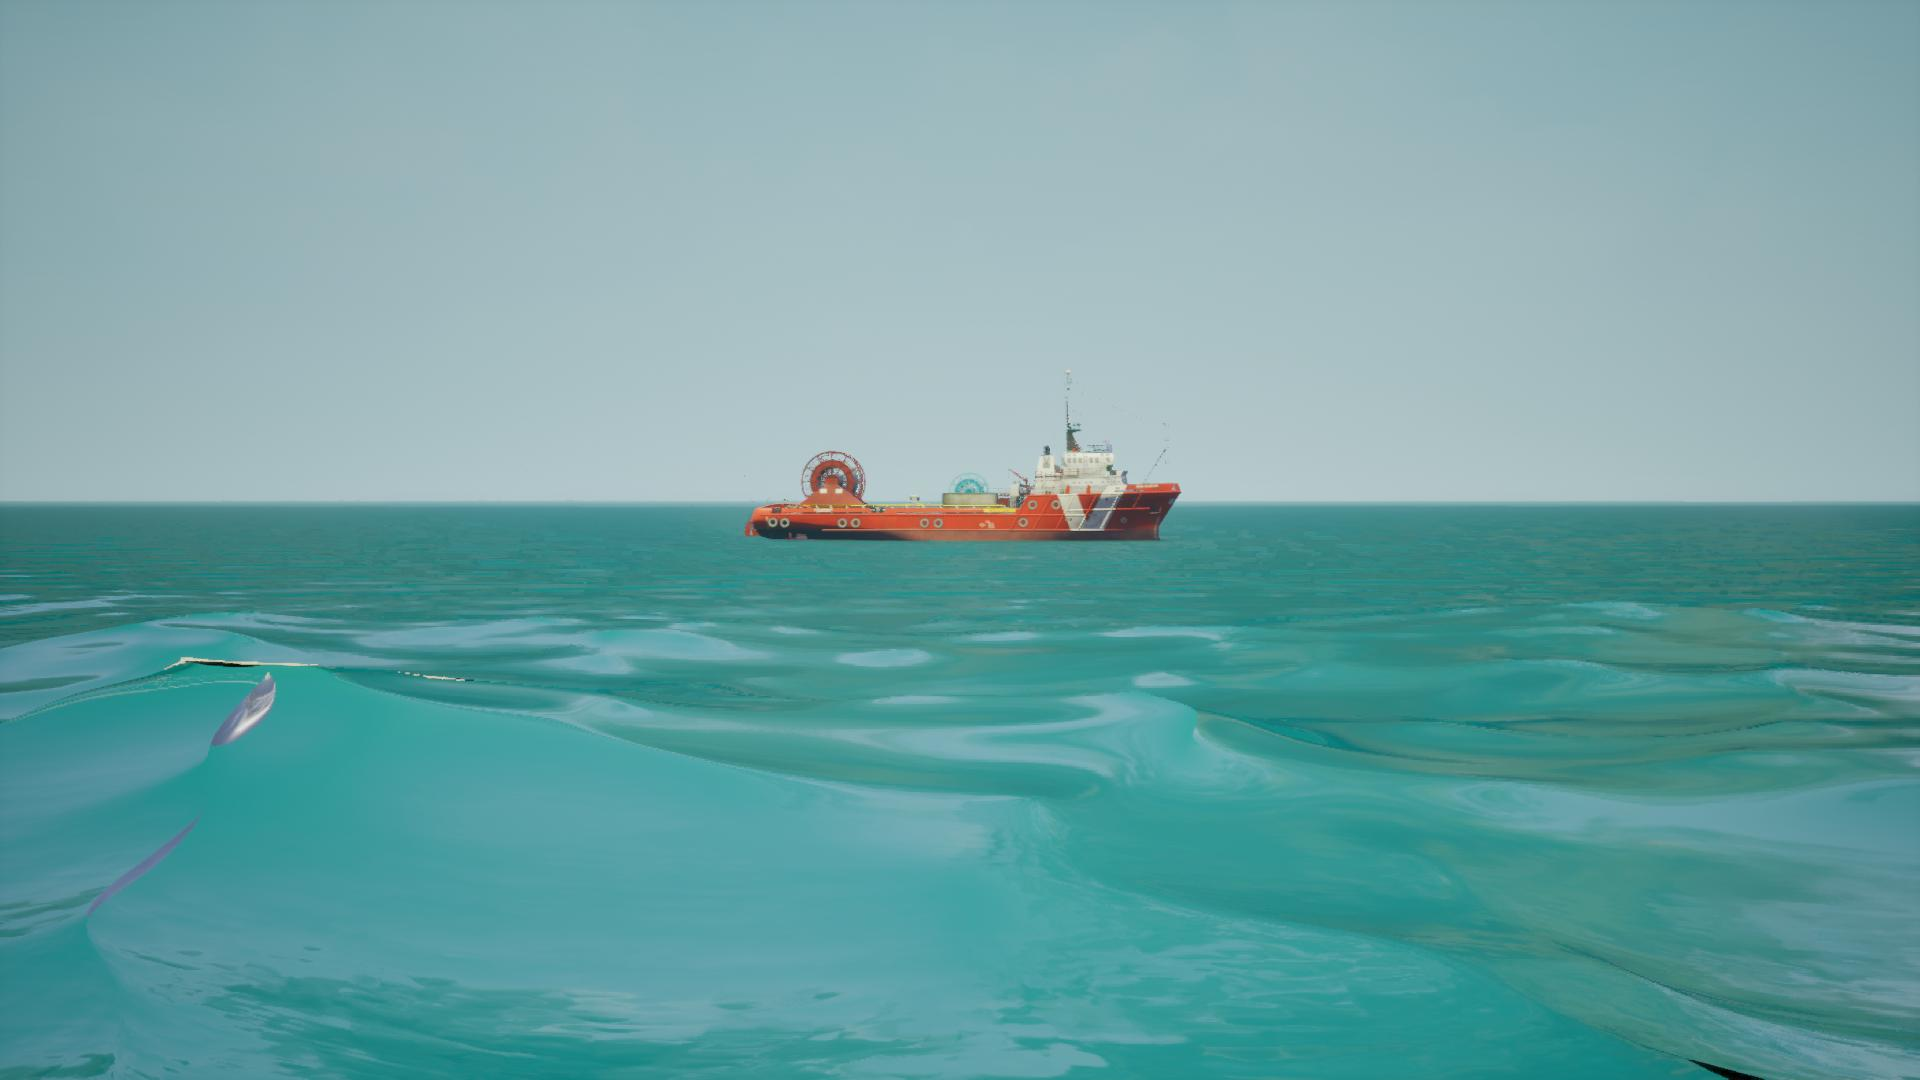Tug Boat: (745, 368, 1184, 545)
